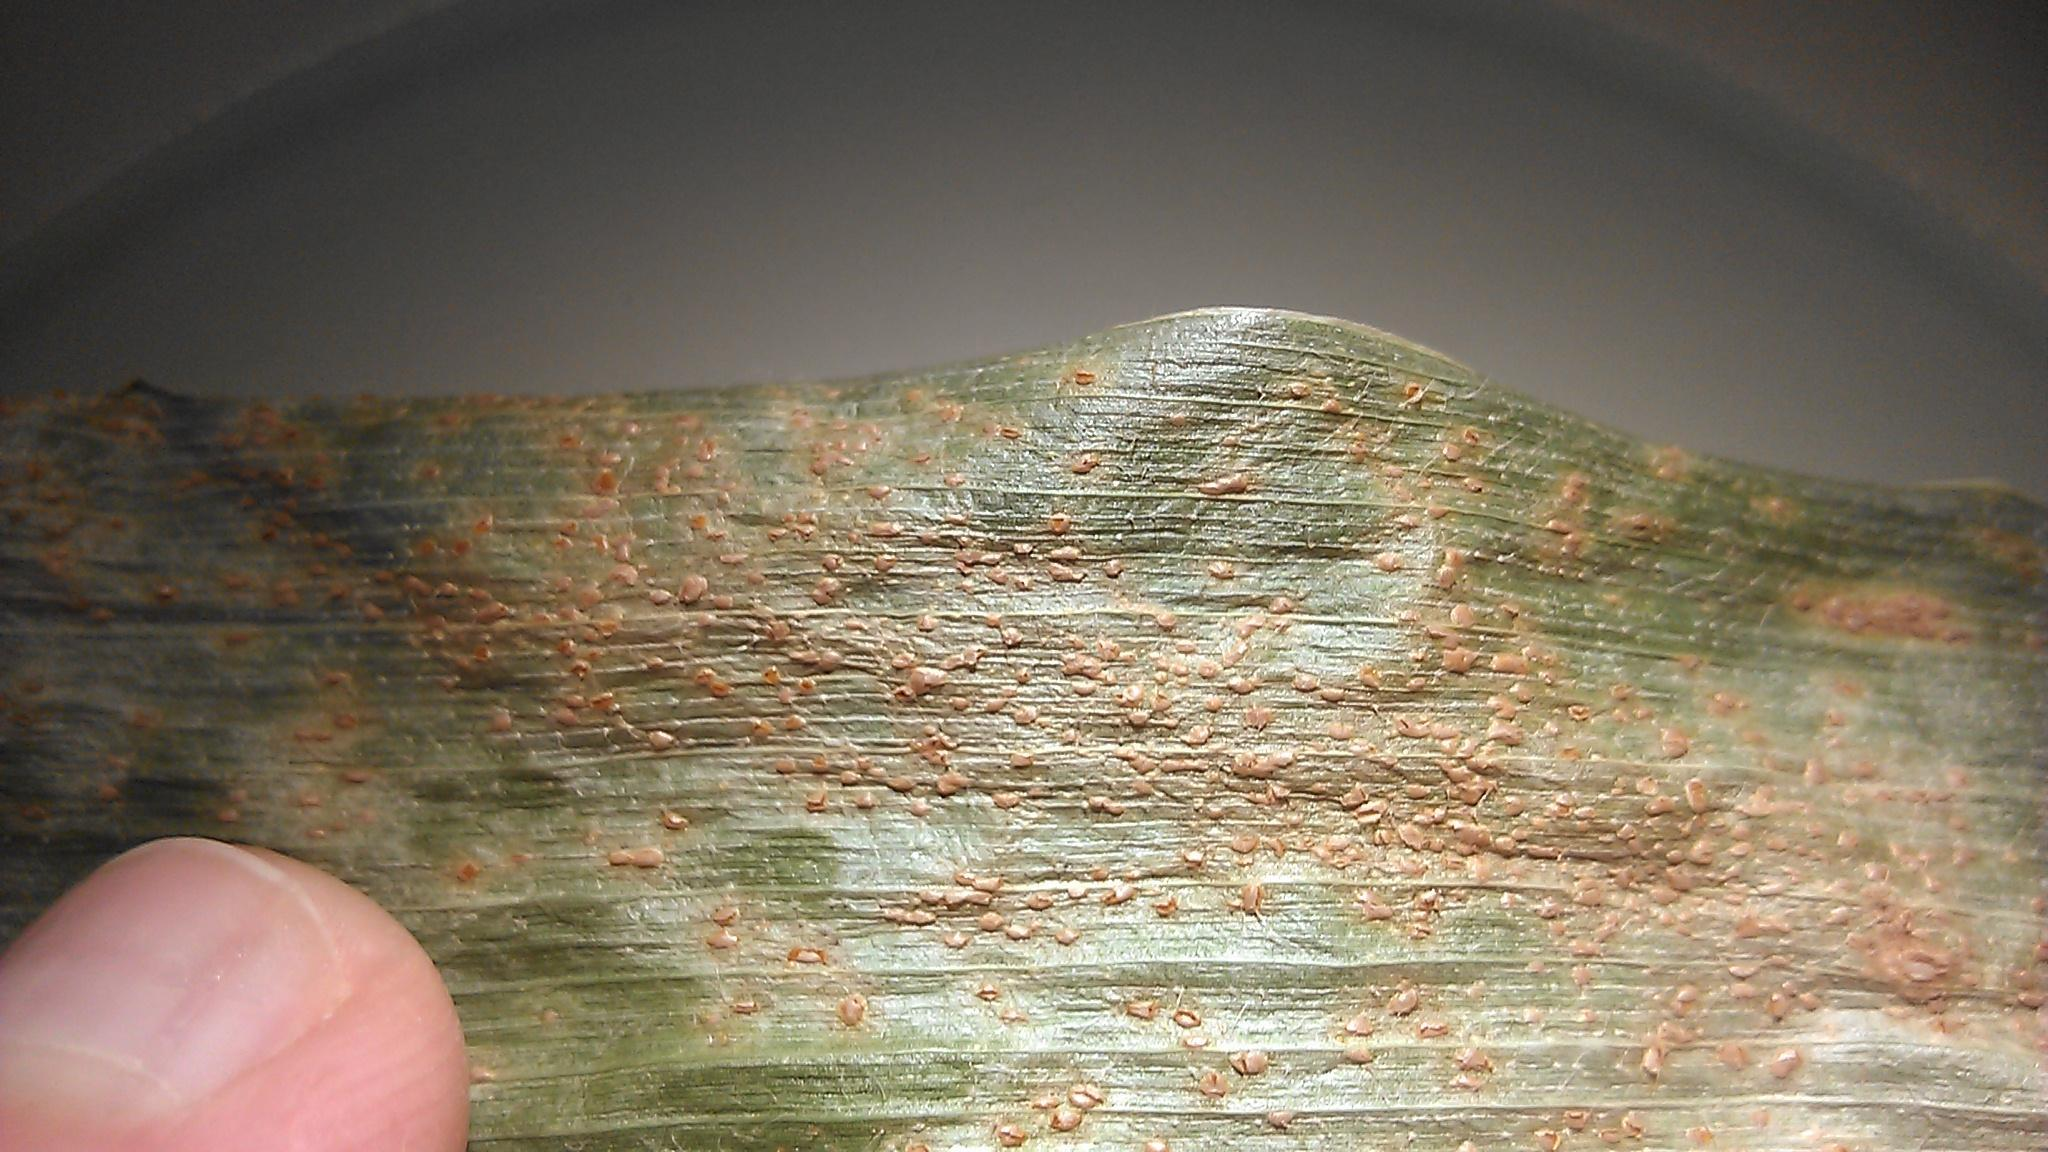Corn_Common_Rust: (0, 359, 2048, 1152)
